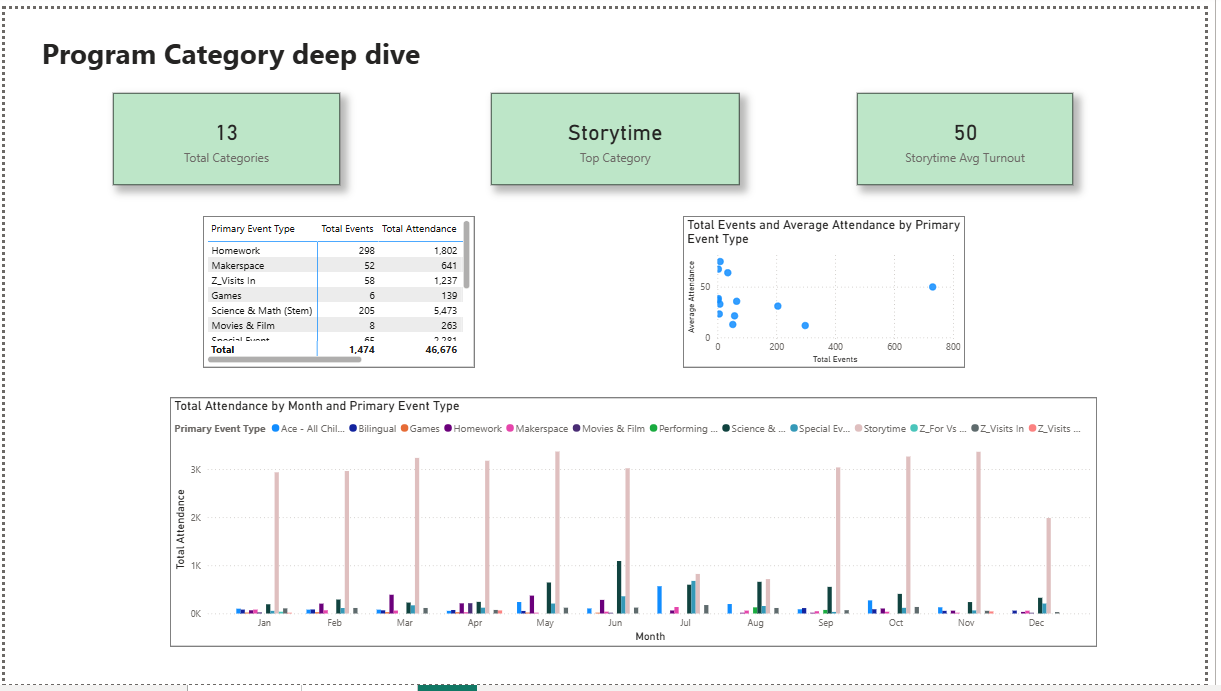

What the dashboard file says about the page in this screenshot:
{"tool":"powerbi","page":{"name":"Page 2","canvas":[1600,900],"ordinal":1},"visuals":[{"type":"pivotTable","fields":{"Rows":["All_Children_Excel_Program_Attendance_20240525.Primary Event Type"],"Values":["_Key Measures.Total Events","_Key Measures.Total Attendance","_Key Measures.Average Attendance"]},"box":[266.7,291.9,360.4,201.8],"z":0},{"type":"scatterChart","fields":{"Y":["_Key Measures.Average Attendance"],"X":["_Key Measures.Total Events"],"Category":["All_Children_Excel_Program_Attendance_20240525.Primary Event Type"]},"box":[904.5,291.9,374.8,201.8],"z":1},{"type":"textbox","box":[43.2,28.8,558.6,162.2],"z":2},{"type":"card","fields":{"Values":["_Key Measures.Total Categories"]},"box":[144.1,111.7,302.7,122.5],"z":3},{"type":"card","fields":{"Values":["_Key Measures.Top Category"]},"box":[648.6,111.7,331.5,122.5],"z":4},{"type":"card","fields":{"Values":["_Key Measures.Storytime Avg Turnout"]},"box":[1135.1,111.7,288.3,122.5],"z":5},{"type":"clusteredColumnChart","fields":{"Category":["All_Children_Excel_Program_Attendance_20240525.Month"],"Y":["_Key Measures.Total Attendance"],"Series":["All_Children_Excel_Program_Attendance_20240525.Primary Event Type"]},"box":[223.4,540.5,1236,331.5],"z":6}]}

Visuals, with their boxes in screenshot pixels (x1, y1, x2, y2), scaled from the page's 1600x900 canvas onto the 1221x691 screenshot:
pivotTable - All_Children_Excel_Program_Attendance_20240525.Primary Event Type x _Key Measures.Total Events: l=204, t=224, r=479, b=379
scatterChart - _Key Measures.Average Attendance x _Key Measures.Total Events: l=690, t=224, r=976, b=379
textbox: l=33, t=22, r=459, b=147
card - _Key Measures.Total Categories: l=110, t=86, r=341, b=180
card - _Key Measures.Top Category: l=495, t=86, r=748, b=180
card - _Key Measures.Storytime Avg Turnout: l=866, t=86, r=1086, b=180
clusteredColumnChart - All_Children_Excel_Program_Attendance_20240525.Month x _Key Measures.Total Attendance: l=170, t=415, r=1114, b=670
